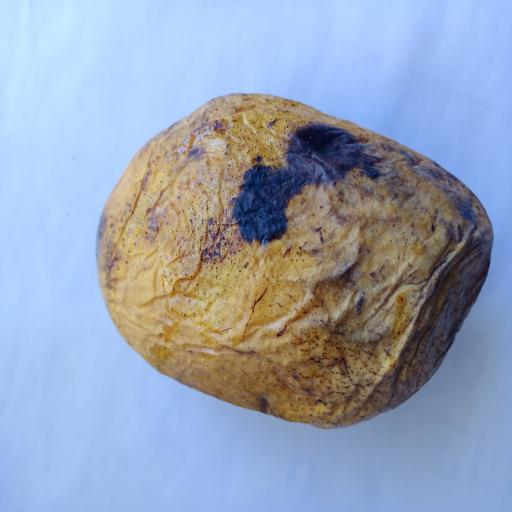mango-overripe: (89, 62, 497, 443)
